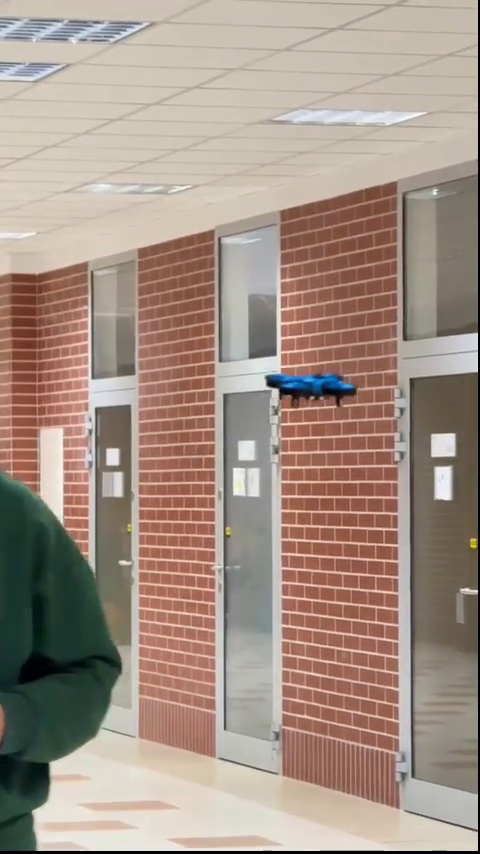drone: (265, 371, 355, 400)
